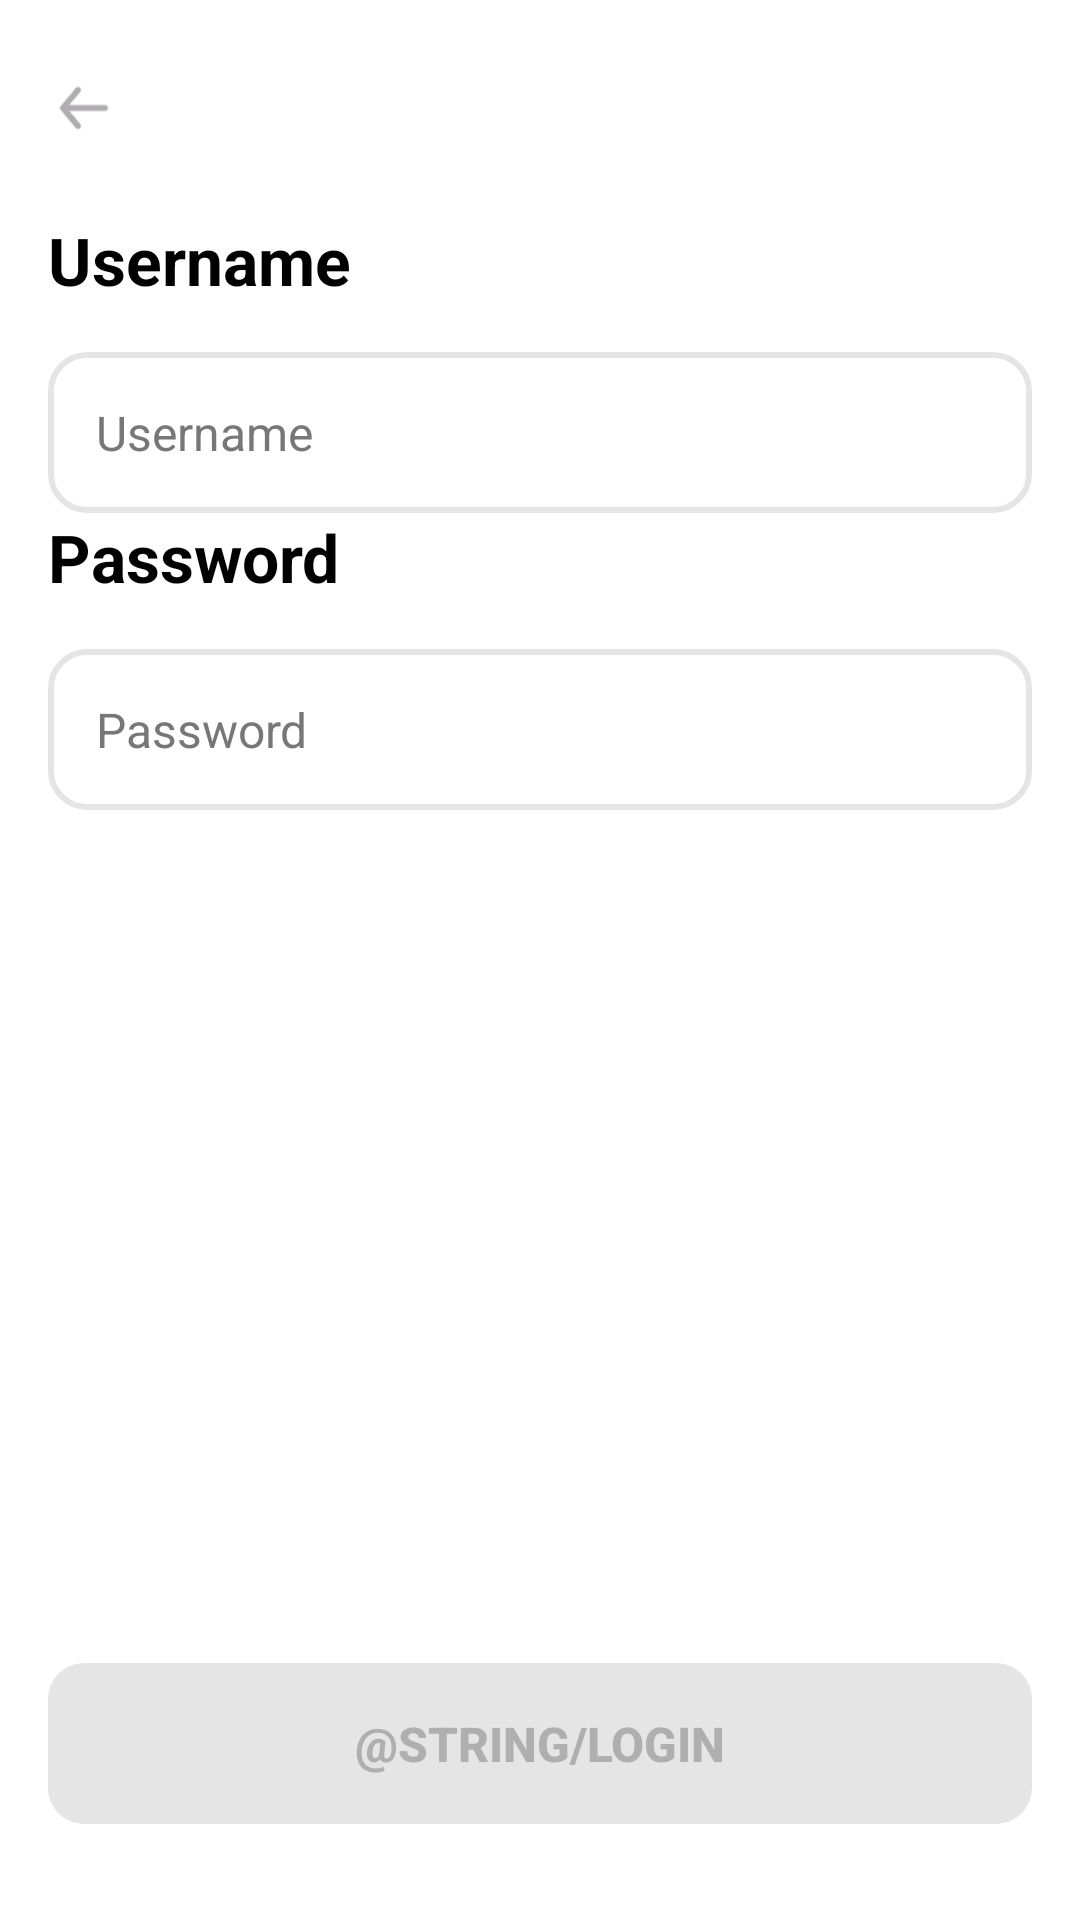

Icons on this 1080 x 1920 Android screen, each with its box as [left=x1, top=y1, right=x2, bottom=y2]:
back arrow: [left=60, top=87, right=108, bottom=129]
